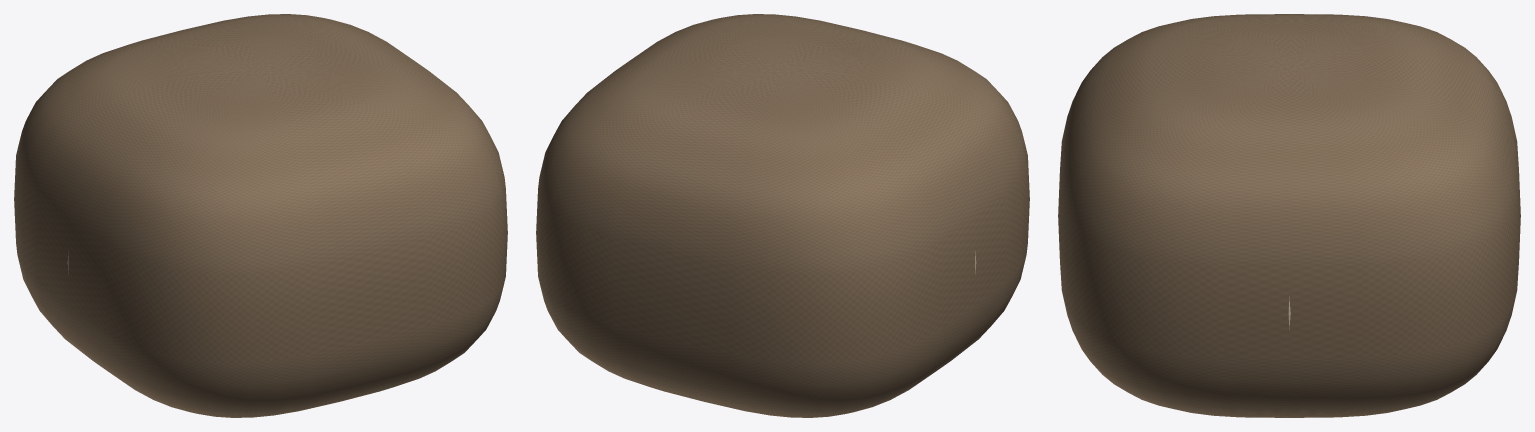
File: pouf.glb
3 renders of one model, left to right at view 1: azimuth 30°, elevation 25°; view 2: azimuth 150°, elevation 25°; view 3: azimuth 270°, elevation 25°, orthographic. The views are drawn at different scales.
Parts seen in each view (by area): view 1: pouf-mesh; view 2: pouf-mesh; view 3: pouf-mesh.
Part boxes in pixels (x1,y1,x2,y2): pouf-mesh: (14, 14, 507, 417); pouf-mesh: (536, 14, 1029, 417); pouf-mesh: (1058, 14, 1520, 417).
Size of the model in its own units: 0.55 by 0.4 by 0.55.
2 materials, 2 textured.
